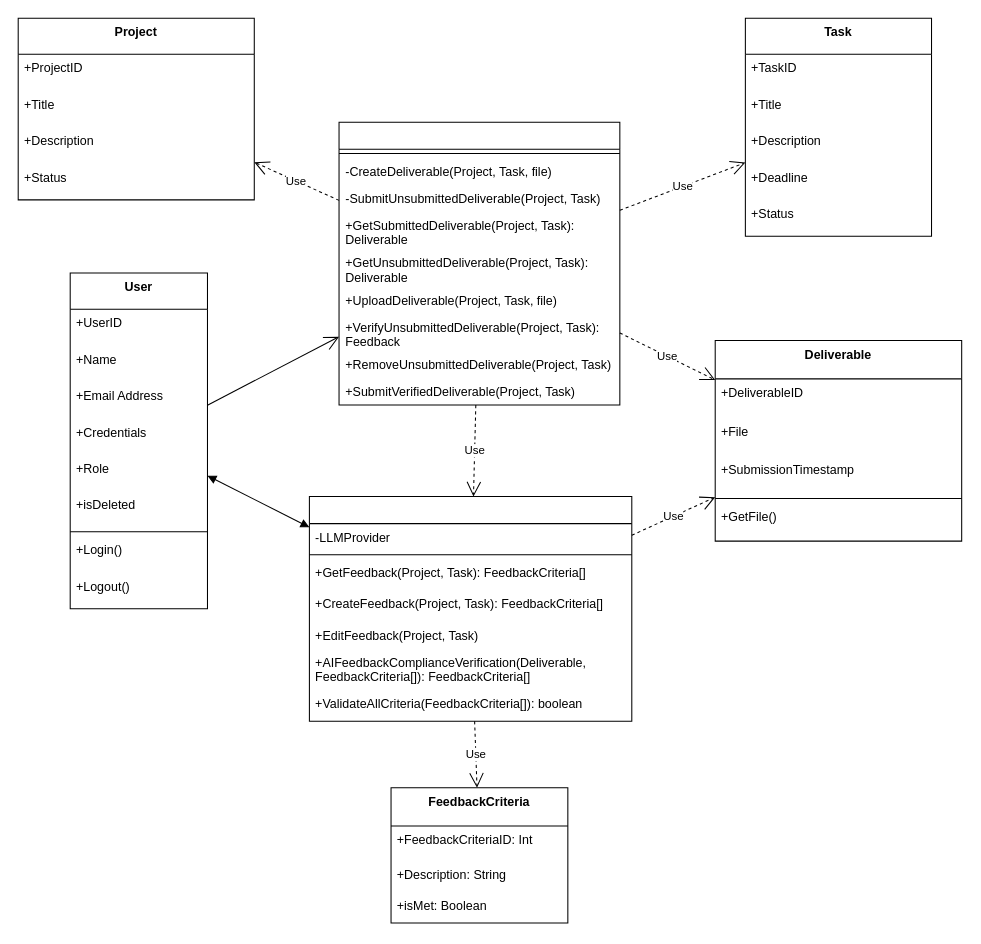
This 981x944 diagram has some shape labels left out. Each missing label, with the box of its shape:
FeedbackService: (308, 496, 632, 721)
TaskDeliverableService: (338, 121, 620, 405)
